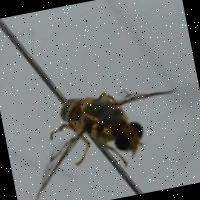Oriental-fruit-fly: (12, 62, 199, 200)
